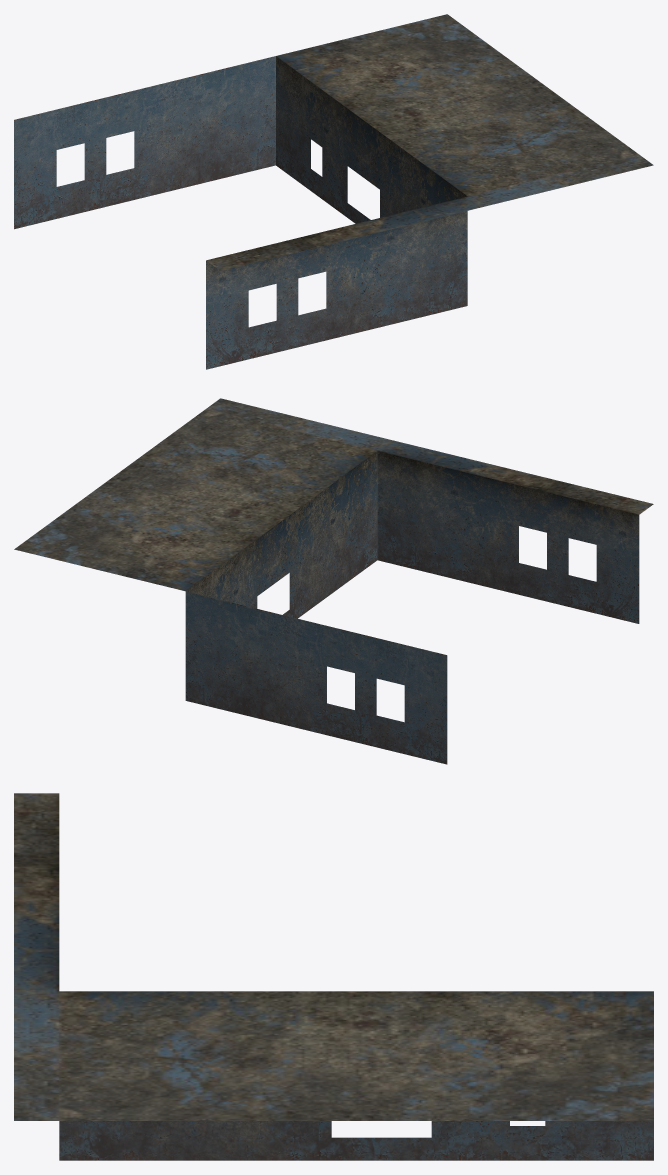
File: GroundBase.FBX
3 views of the same model, one above another, from view 1: azimuth 30°, elevation 25°; view 2: azimuth 150°, elevation 25°; view 3: azimuth 270°, elevation 25° (orthographic). The views are drawn at different scales.
Parts seen in each view (by area): view 1: GroundBase; view 2: GroundBase; view 3: GroundBase.
Part boxes in pixels (<box>): GroundBase: <box>14,14,653,369</box>; GroundBase: <box>14,398,653,764</box>; GroundBase: <box>14,793,653,1160</box>.
Size of the model in its own units: 2118 by 511 by 1748.
Materials: 1 (1 with a texture image).
